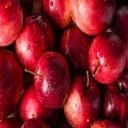apple: (13, 13, 57, 76)
